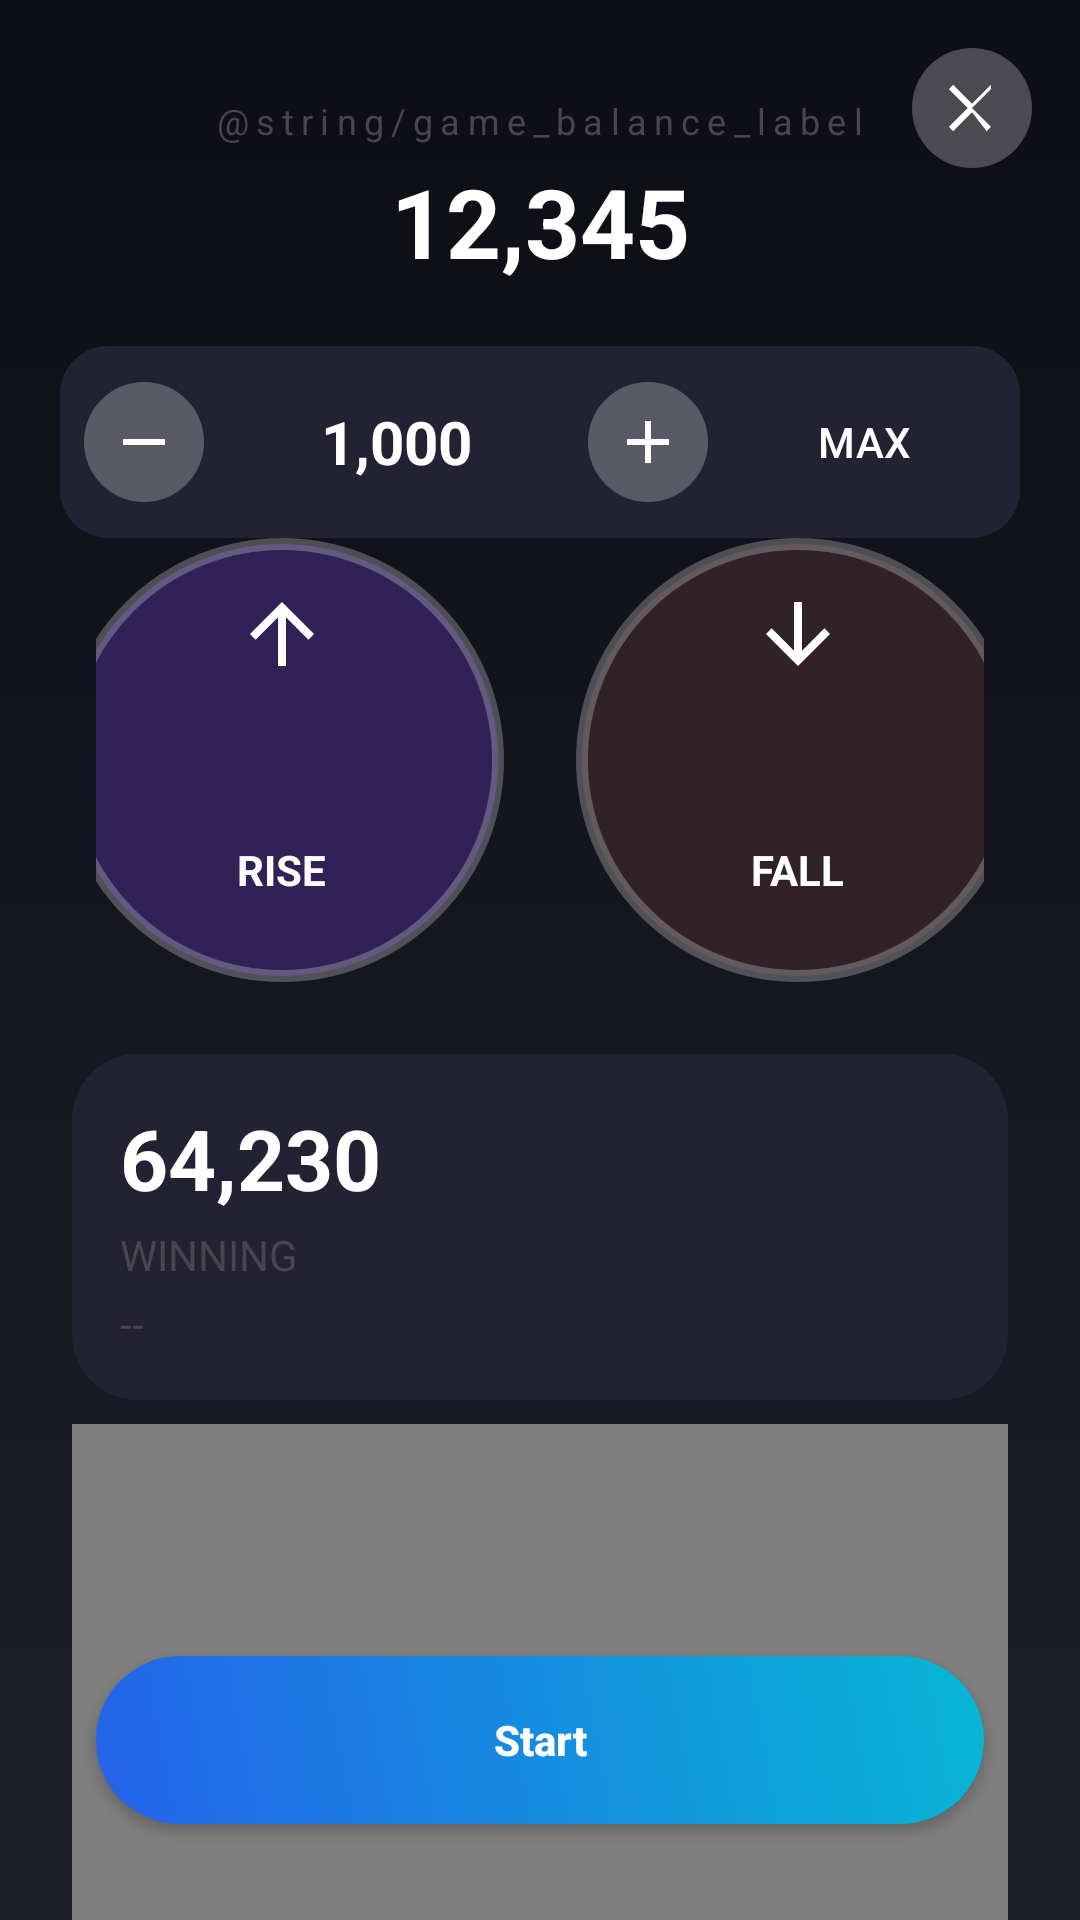

Screen size 1080px×1920px. Icon name, then its box in pixels as detection(x1, y1, x2, y2):
arrow down: detection(766, 602, 830, 666)
arrow up: detection(250, 602, 314, 666)
close: detection(912, 48, 1032, 168)
minus: detection(84, 382, 204, 502)
plus: detection(588, 382, 708, 502)
